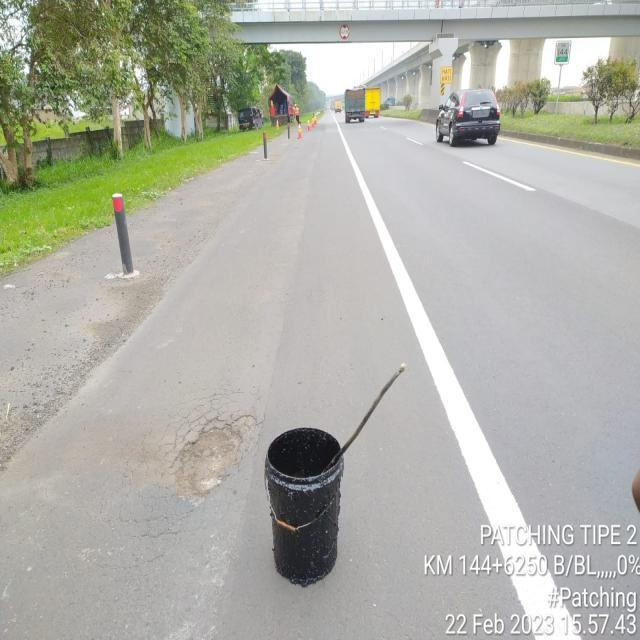Buraco: (170, 412, 262, 502)
